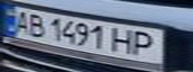1: (87, 22, 109, 51), (42, 16, 63, 42)
4: (57, 18, 75, 44)
9: (72, 20, 90, 47)
A: (6, 8, 33, 35)
B: (24, 11, 48, 38)
H: (109, 25, 139, 55)
P: (127, 29, 163, 57)
